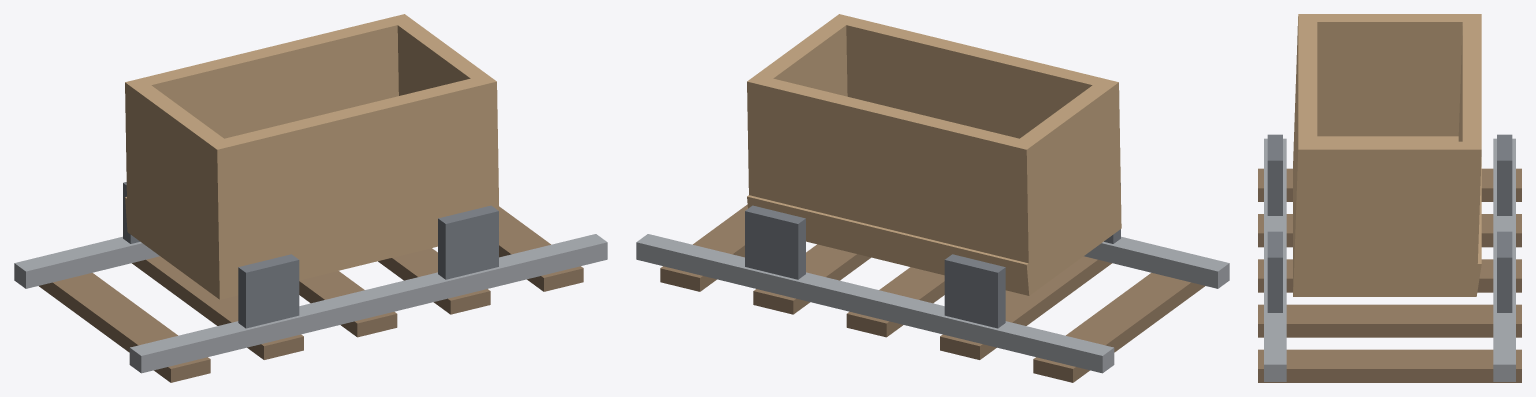
Rendered from hy4_carrito_rojo_20261109.glb.
3 renders of one model, left to right at view 1: azimuth 30°, elevation 25°; view 2: azimuth 150°, elevation 25°; view 3: azimuth 270°, elevation 25°, orthographic.
Parts seen in each view (by area): view 1: SM_Carrito_Batea_NOFUNDIR, SM_Carrito_Rieles_NOFUNDIR, SM_Carrito_Traviesas_NOFUNDIR, SM_Carrito_Ruedas_NOFUNDIR; view 2: SM_Carrito_Batea_NOFUNDIR, SM_Carrito_Rieles_NOFUNDIR, SM_Carrito_Traviesas_NOFUNDIR, SM_Carrito_Ruedas_NOFUNDIR; view 3: SM_Carrito_Batea_NOFUNDIR, SM_Carrito_Traviesas_NOFUNDIR, SM_Carrito_Rieles_NOFUNDIR, SM_Carrito_Ruedas_NOFUNDIR.
Part boxes in pixels (x1,y1,x2,y2): SM_Carrito_Batea_NOFUNDIR: [125, 14, 499, 299]; SM_Carrito_Rieles_NOFUNDIR: [14, 234, 607, 373]; SM_Carrito_Traviesas_NOFUNDIR: [39, 206, 583, 382]; SM_Carrito_Ruedas_NOFUNDIR: [123, 182, 498, 328]; SM_Carrito_Batea_NOFUNDIR: [747, 14, 1121, 295]; SM_Carrito_Rieles_NOFUNDIR: [636, 234, 1229, 373]; SM_Carrito_Traviesas_NOFUNDIR: [660, 204, 1204, 382]; SM_Carrito_Ruedas_NOFUNDIR: [745, 183, 1120, 328]; SM_Carrito_Batea_NOFUNDIR: [1293, 14, 1481, 296]; SM_Carrito_Traviesas_NOFUNDIR: [1258, 168, 1521, 382]; SM_Carrito_Rieles_NOFUNDIR: [1264, 138, 1515, 381]; SM_Carrito_Ruedas_NOFUNDIR: [1267, 134, 1512, 312].
Size of the model in its own units: 1.4 by 0.58 by 0.69.
